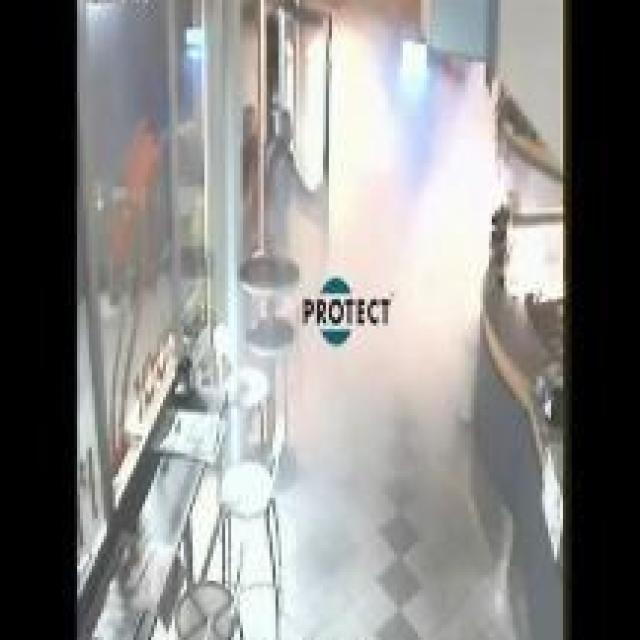fire: (262, 12, 404, 483), (384, 64, 508, 438)
